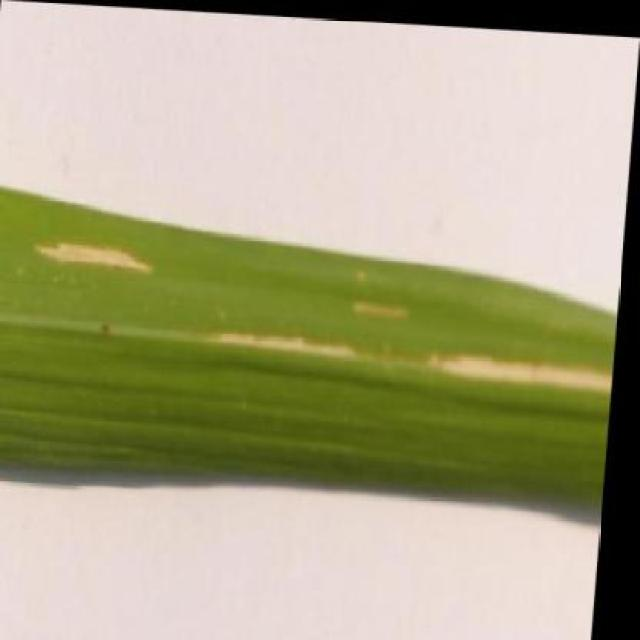Brown_Spot: (0, 185, 628, 493)
